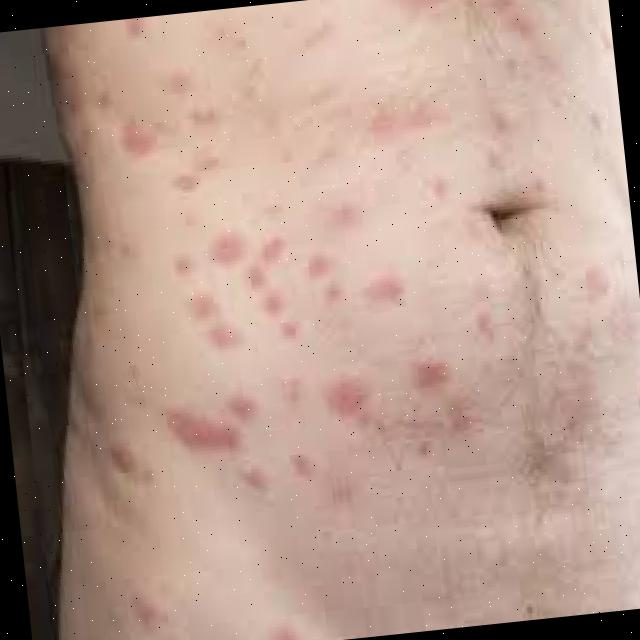kan emici bocekler: (244, 227, 300, 341), (371, 99, 444, 155), (295, 247, 347, 322), (170, 415, 243, 463), (194, 286, 239, 355), (366, 270, 415, 317), (331, 374, 370, 425), (272, 371, 312, 417), (464, 308, 500, 356), (409, 354, 448, 398), (321, 473, 365, 512), (106, 437, 142, 481), (120, 122, 155, 166), (130, 599, 166, 637), (231, 386, 270, 421), (232, 457, 263, 500), (185, 100, 220, 135), (214, 230, 244, 270), (320, 208, 354, 242), (168, 67, 196, 104), (293, 449, 318, 475), (174, 255, 193, 279), (283, 620, 301, 640)
